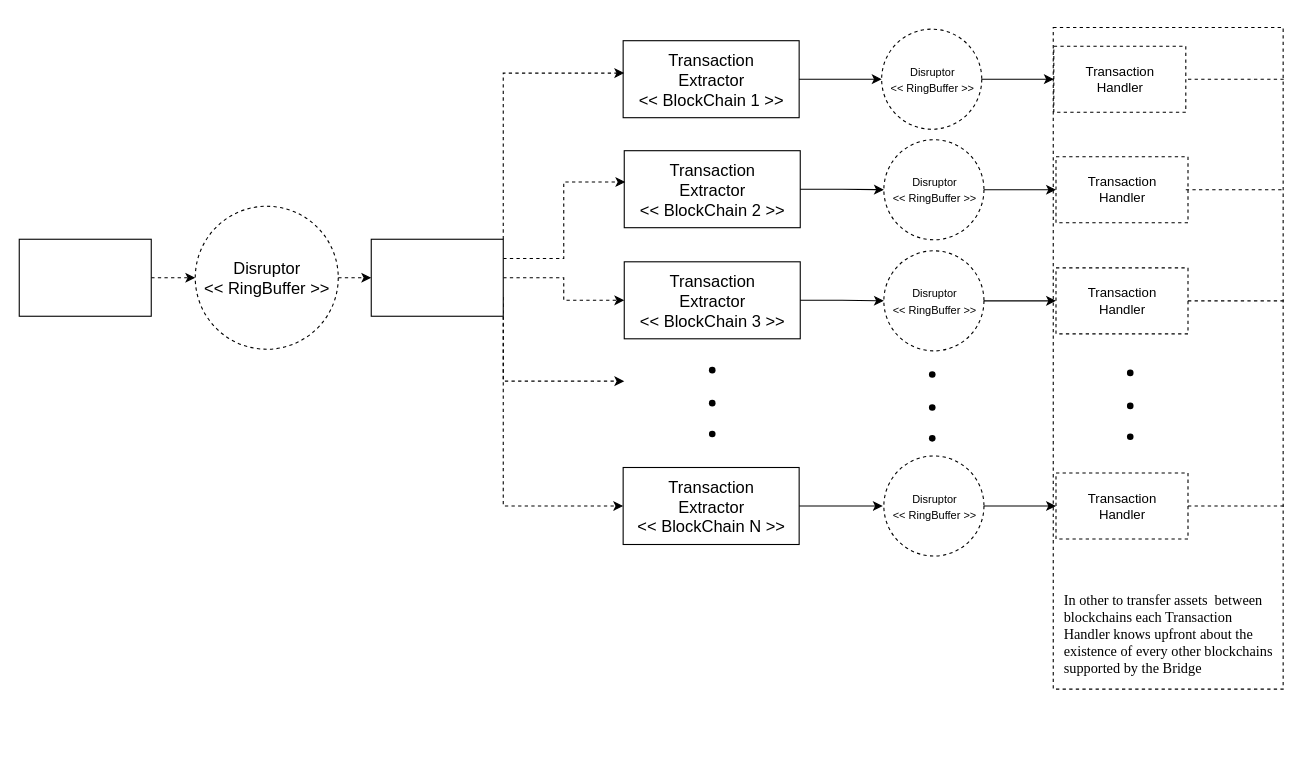
The diagram is 1304 pixels wide and 774 high, and some of its shapes have lost their labels. The shapes that lost their labels are listed below. From the top down, each one's centre as x and y in pixels, then its label:
At [84,277]: "New Blocks Sniffer".
At [436,277]: "Block DIspatch Service".
